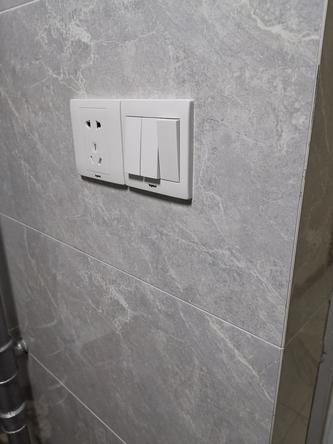switch: (159, 119, 182, 185), (140, 118, 155, 181), (124, 119, 140, 176)
